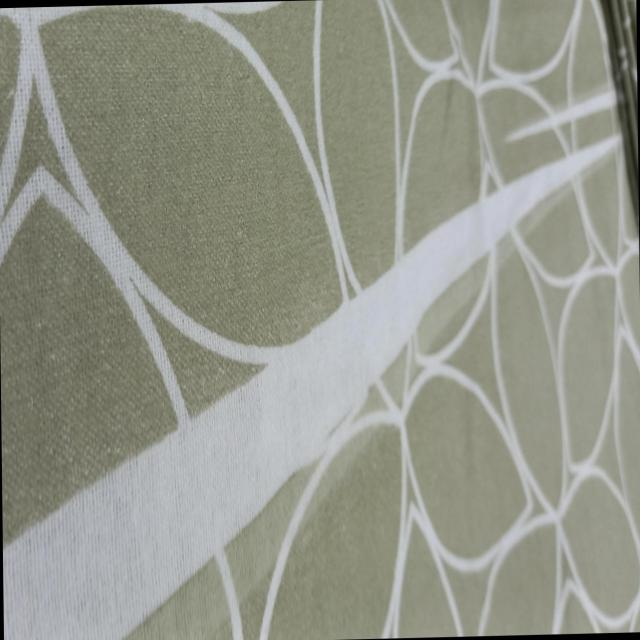selvet: (251, 237, 460, 499), (2, 424, 255, 640), (456, 129, 626, 264)
